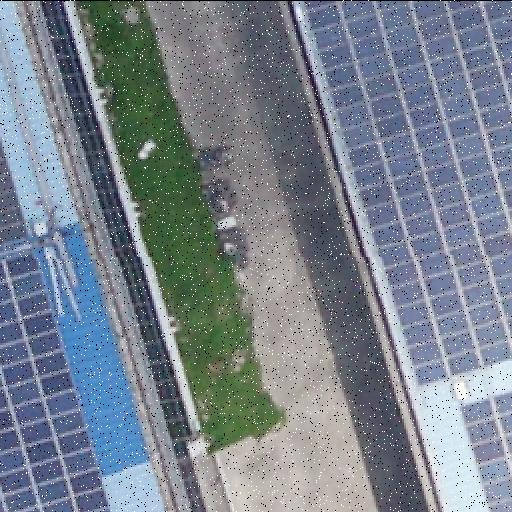solar-panel: (305, 0, 511, 384), (1, 252, 111, 512), (460, 390, 512, 512), (0, 144, 28, 244)
